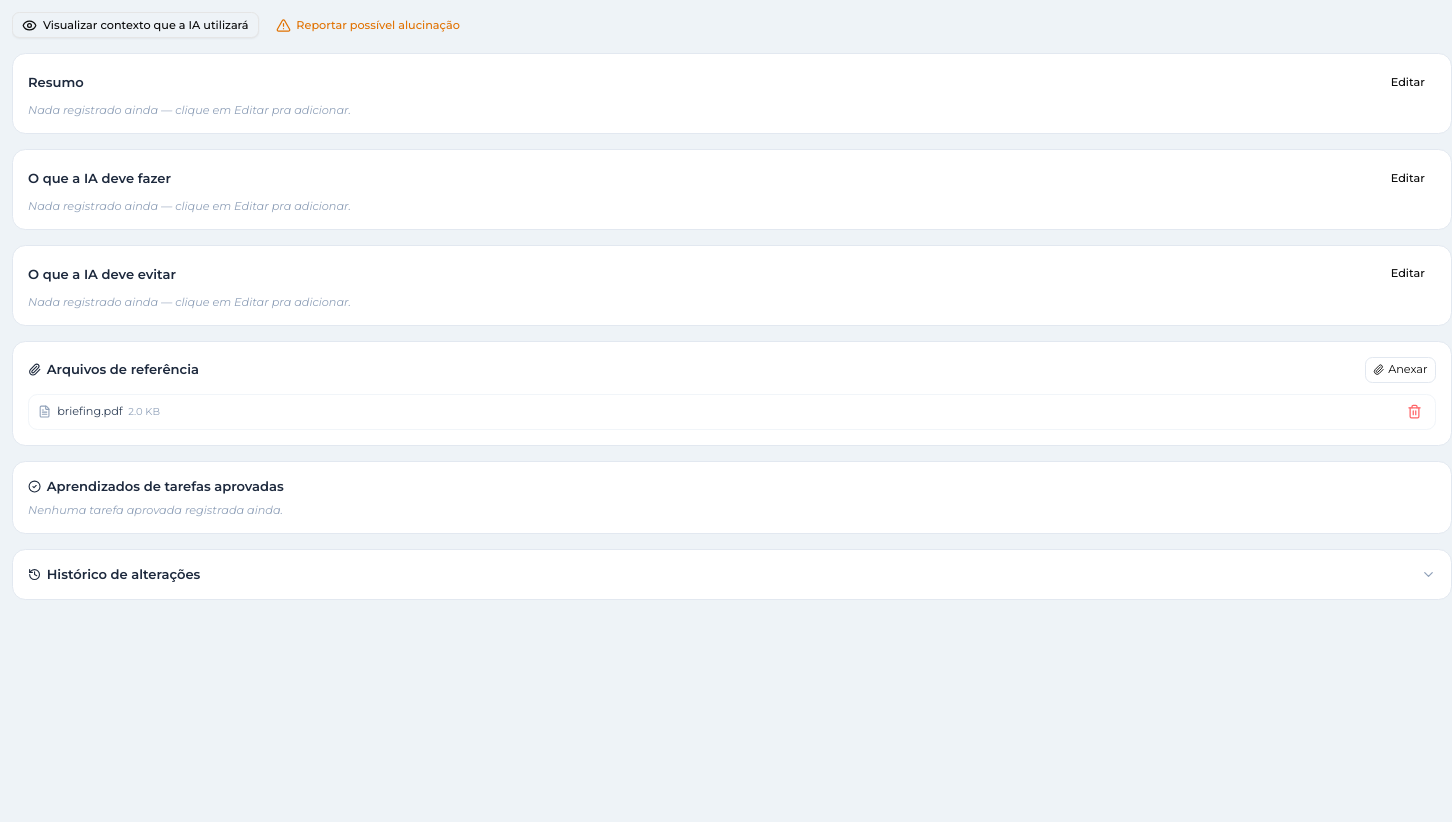
MemoryPanel › remover arquivo aciona o delete e recarrega a lista (arquivamento lógico no backend, não visível aqui como exclusão física)
This screenshot has width=1452, height=822.
Expected: the text "briefing.pdf" is shown, [57,404,123,419]
Click the 7th button.
click(1414, 412)  # box [1403,401,1426,423]
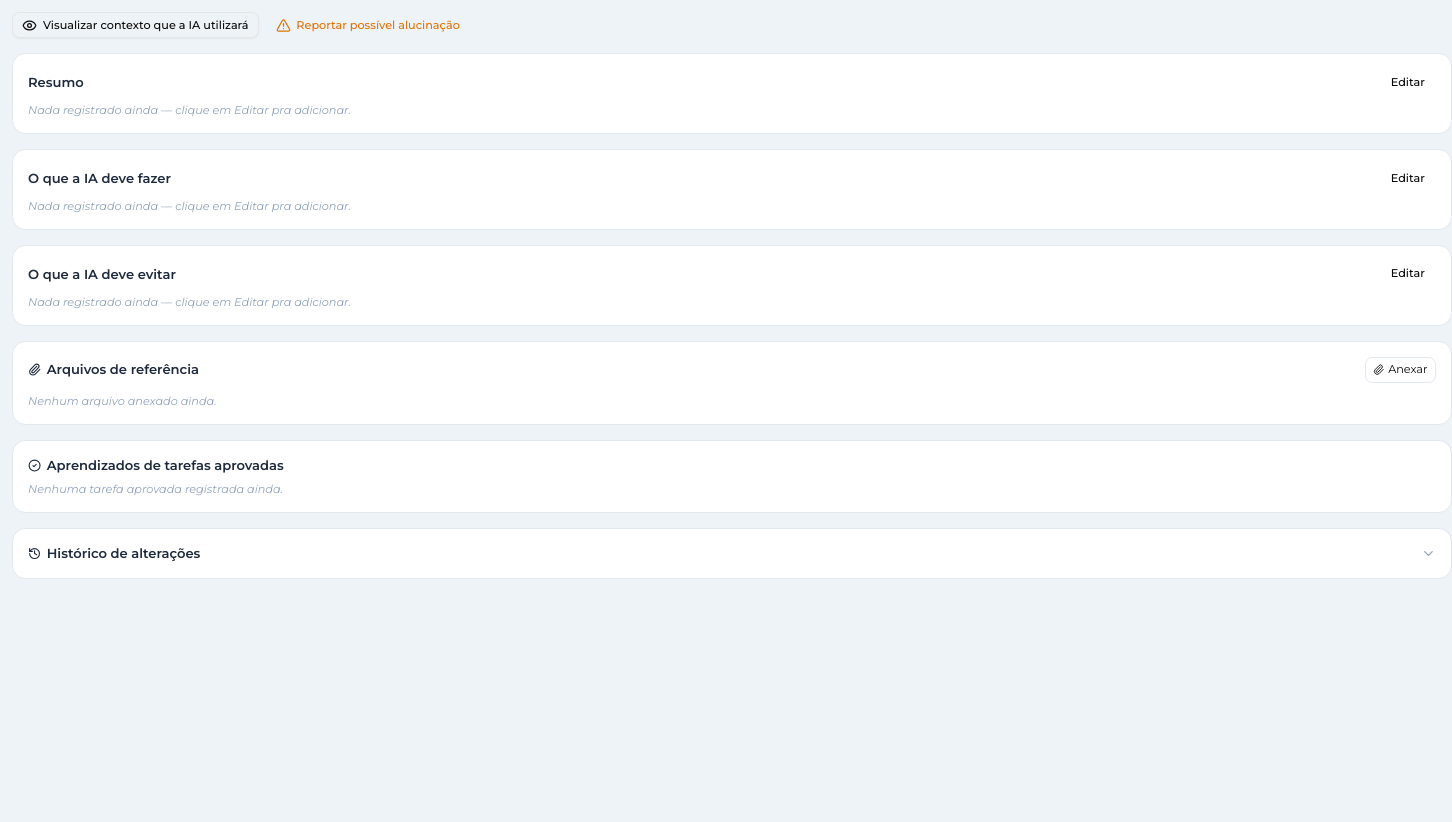
Expected: the button "briefing.pdf" is gone
